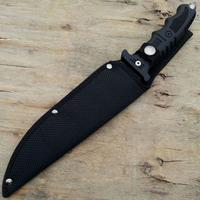knife: (1, 2, 189, 199)
